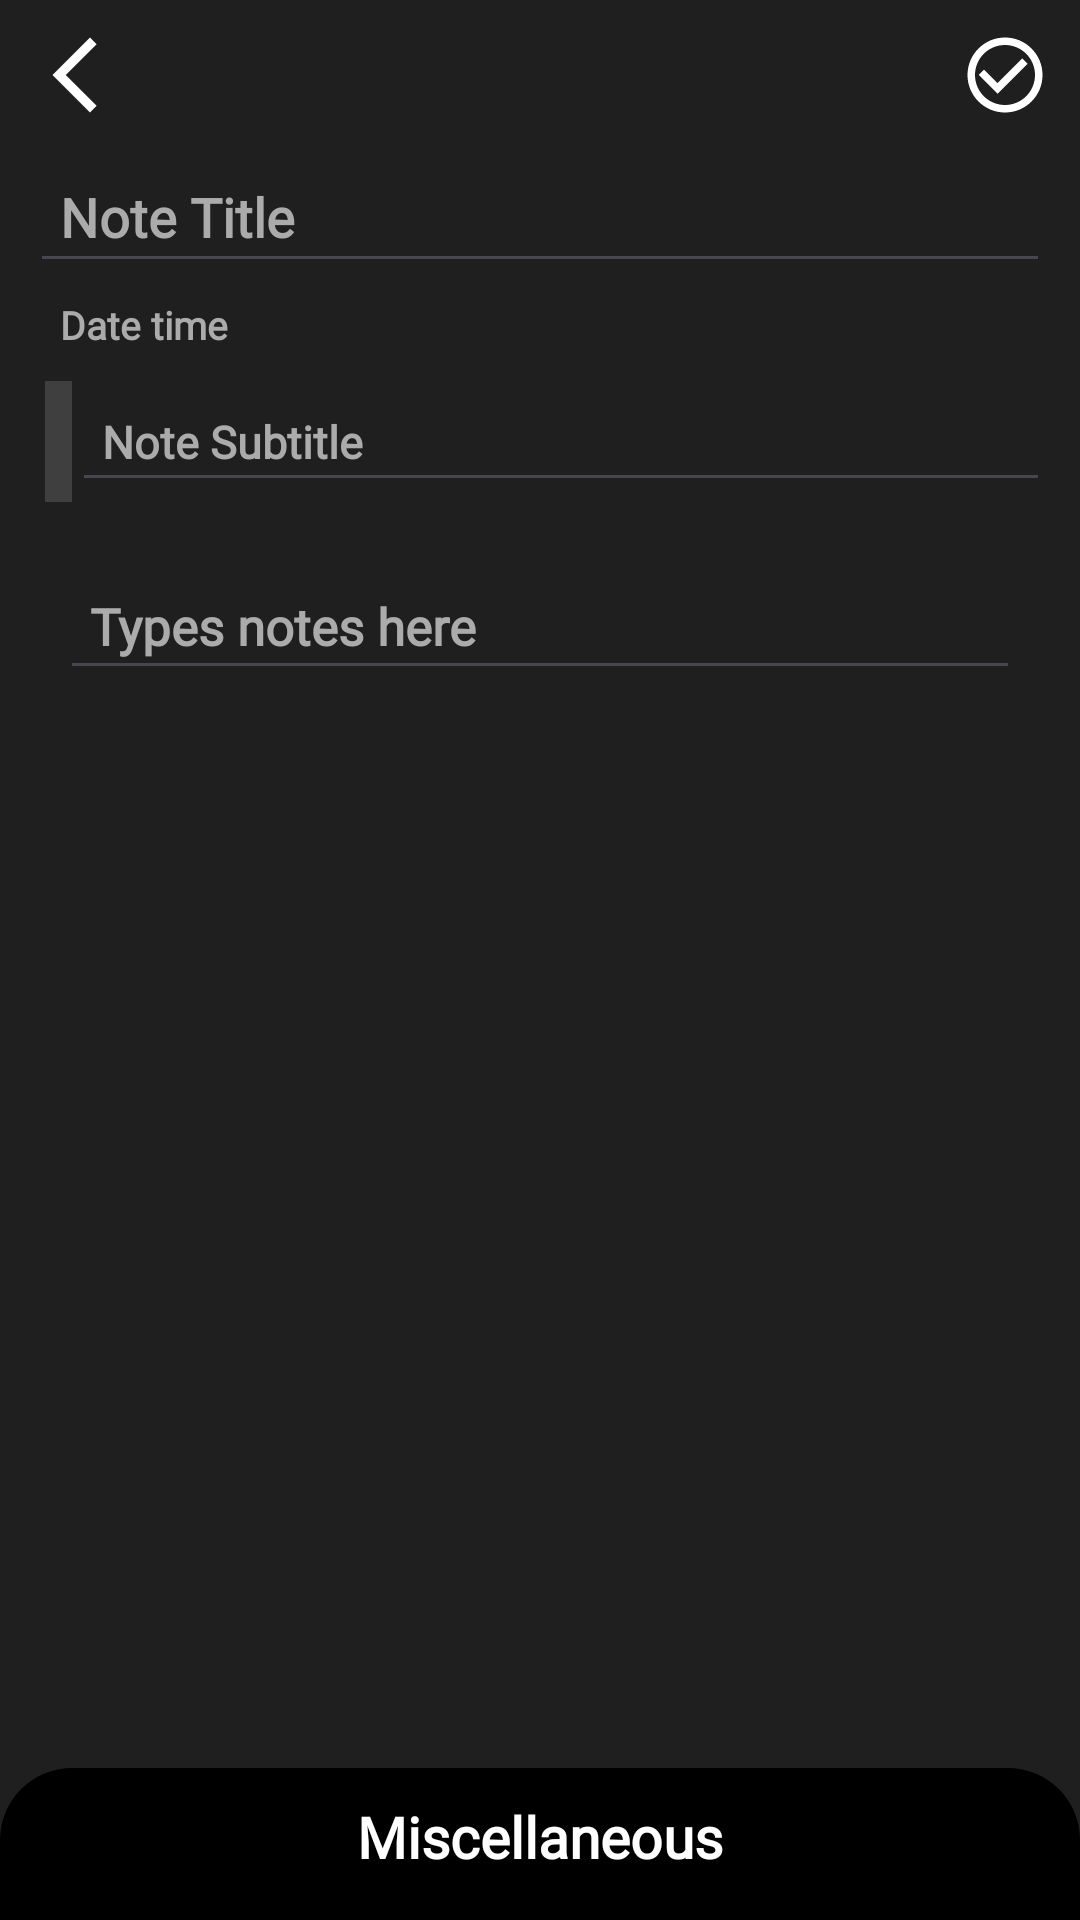

Named icons in this screenshot (1080px×1920px) and their centers, (x,y):
back: (74,75)
check circle: (1005,75)
